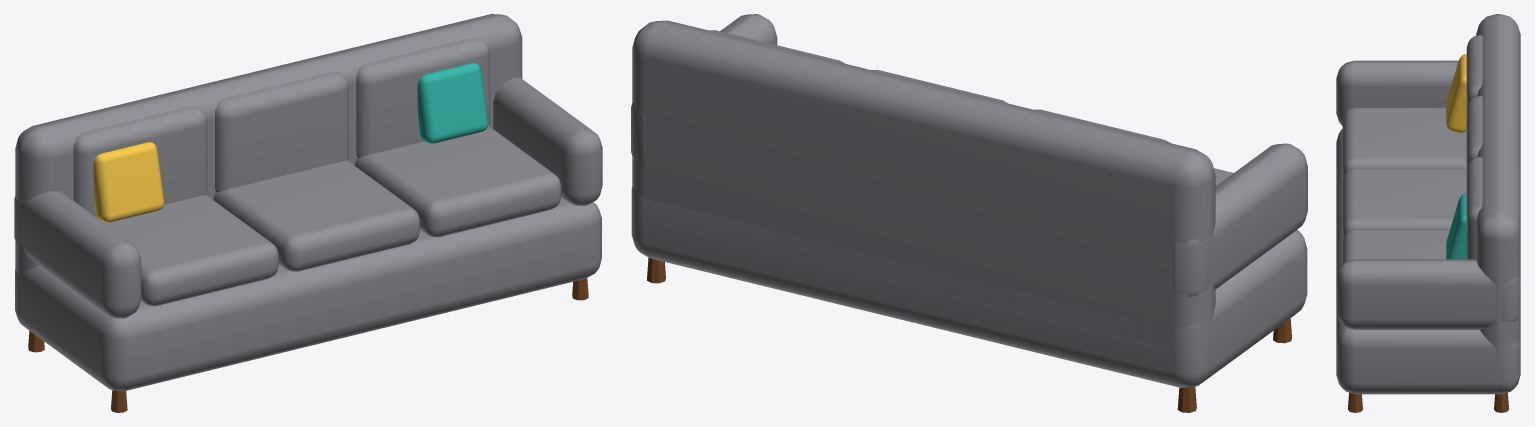
The model's file is LongSofa.fbx.
3 renders of one model, left to right at view 1: azimuth 30°, elevation 25°; view 2: azimuth 150°, elevation 25°; view 3: azimuth 270°, elevation 25°, orthographic. The views are drawn at different scales.
Parts seen in each view (by area): view 1: LongSofa; view 2: LongSofa; view 3: LongSofa.
Boxes of the visible parts, x1,y1,x2,y2 form: LongSofa: (14,14,602,412); LongSofa: (631,14,1307,412); LongSofa: (1336,14,1520,412).
Bounding box in the file's own units: 8 × 3.4 × 2.9.
Materials: 1 (1 with a texture image).
